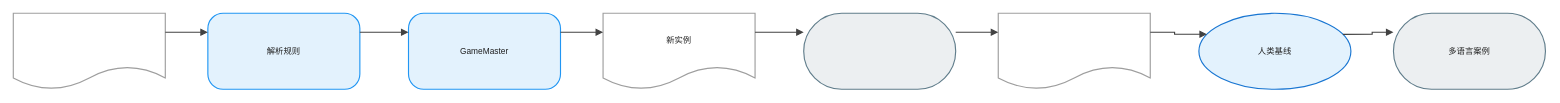
Image size: 1560x103. Some labels were removed from this diagram. Each missing label, with the box of its shape:
LLM自我对弈: (803, 12, 956, 90)
游戏模板: (12, 12, 166, 90)
游戏评分: (997, 12, 1150, 90)
